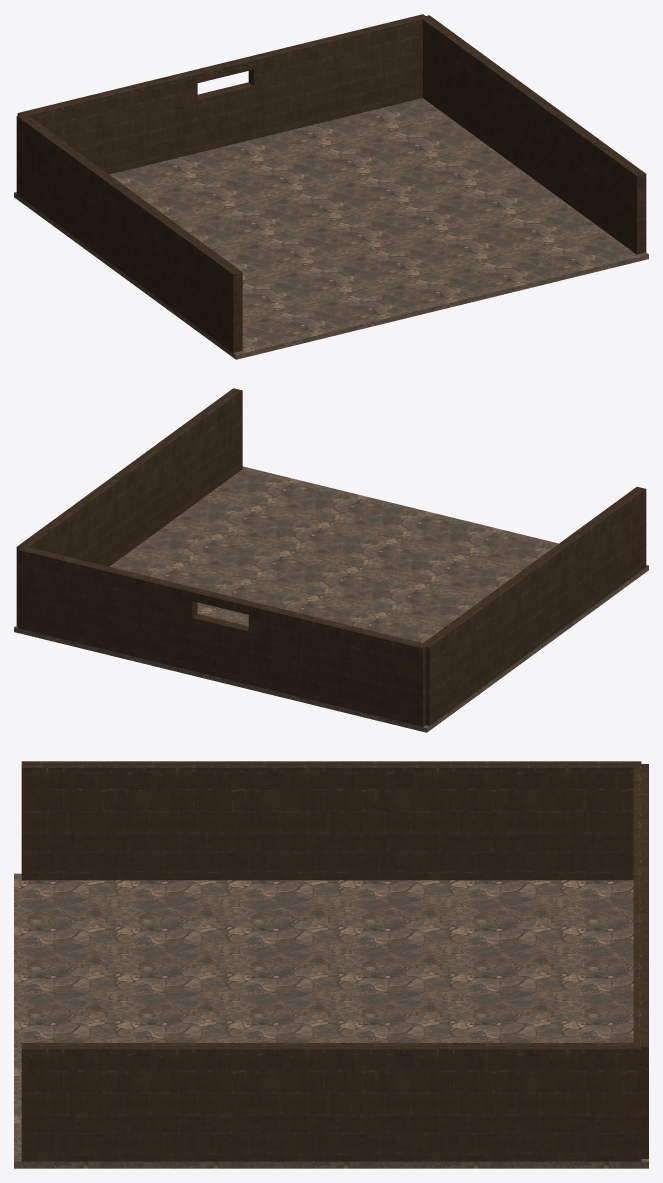
Rendered from library-rebuilt.glb.
3 views of the same model, one above another, from view 1: azimuth 30°, elevation 25°; view 2: azimuth 150°, elevation 25°; view 3: azimuth 270°, elevation 25° (orthographic). The views are drawn at different scales.
Visible parts, largest first — view 1: 图书馆地面, 图书馆侧墙, 图书馆侧墙.001, 窗下墙, 窗上墙, 窗侧墙.001, 窗侧墙; view 2: 图书馆地面, 窗下墙, 图书馆侧墙, 图书馆侧墙.001, 窗上墙, 窗侧墙.001, 窗侧墙; view 3: 图书馆地面, 图书馆侧墙.001, 图书馆侧墙, 窗上墙, 窗下墙.
Part boxes in pixels (<box>): 图书馆地面: <box>14,98,648,359</box>; 图书馆侧墙: <box>16,115,242,352</box>; 图书馆侧墙.001: <box>420,15,646,254</box>; 窗下墙: <box>55,45,422,174</box>; 窗上墙: <box>17,14,427,121</box>; 窗侧墙.001: <box>248,28,422,85</box>; 窗侧墙: <box>38,83,197,134</box>; 图书馆地面: <box>14,466,648,732</box>; 窗下墙: <box>17,575,425,726</box>; 图书馆侧墙: <box>423,486,646,725</box>; 图书馆侧墙.001: <box>16,388,242,625</box>; 窗上墙: <box>17,547,427,657</box>; 窗侧墙.001: <box>17,558,197,617</box>; 窗侧墙: <box>248,615,425,673</box>; 图书馆地面: <box>14,873,648,1168</box>; 图书馆侧墙.001: <box>21,1043,641,1161</box>; 图书馆侧墙: <box>21,761,641,880</box>; 窗上墙: <box>633,764,648,1059</box>; 窗下墙: <box>641,1083,648,1158</box>.
Bounding box in the file's own units: 22 × 4.24 × 20.5.
Materials: 2 (2 with a texture image).
